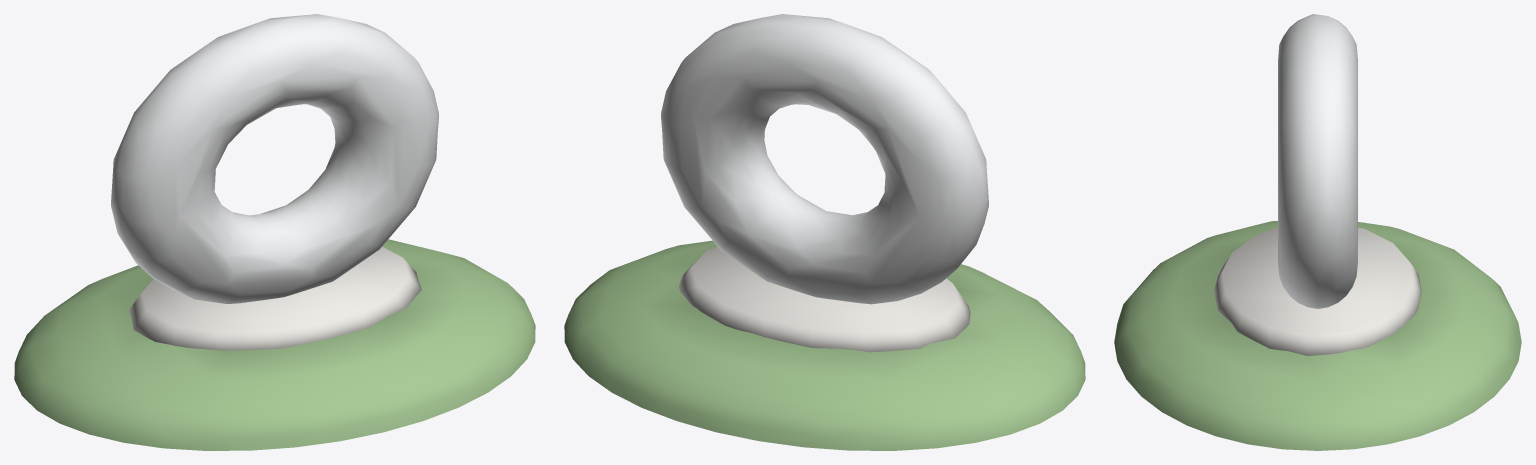
File: museum_of_the_future_lod1.glb
The picture shows the model from 3 angles, left to right: view 1: azimuth 30°, elevation 25°; view 2: azimuth 150°, elevation 25°; view 3: azimuth 270°, elevation 25°; orthographic projection. The views are drawn at different scales.
Visible parts, largest first — view 1: museum_of_the_future_lod1; view 2: museum_of_the_future_lod1; view 3: museum_of_the_future_lod1.
Part boxes in pixels (<box>): museum_of_the_future_lod1: <box>14,14,535,450</box>; museum_of_the_future_lod1: <box>564,14,1085,450</box>; museum_of_the_future_lod1: <box>1114,14,1521,450</box>.
Size of the model in its own units: 116 by 76.93 by 92.
